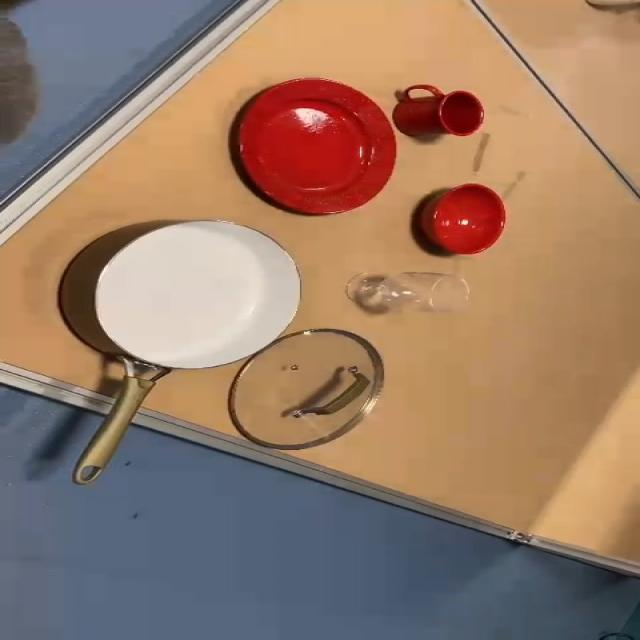Bowl: (420, 182, 515, 264)
Glass: (342, 267, 470, 322)
Plate: (225, 81, 405, 214), (387, 83, 480, 142)
pot: (71, 216, 302, 487)
